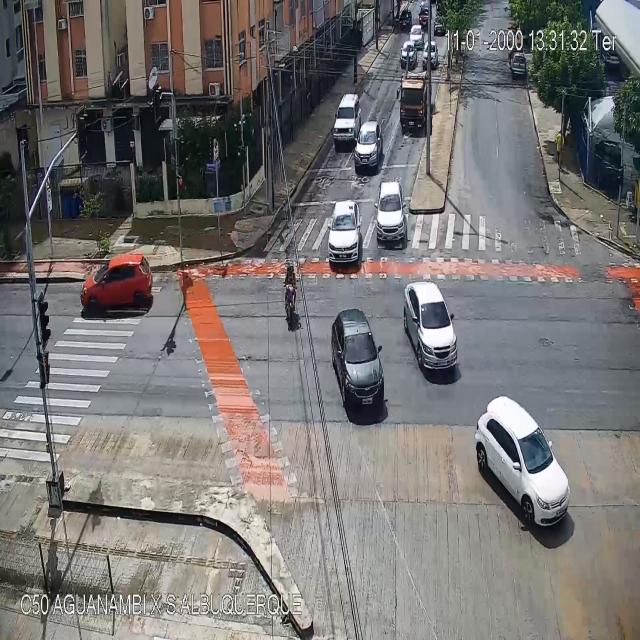Car: (477, 395, 571, 526), (332, 306, 384, 418), (403, 280, 459, 378), (80, 254, 152, 315), (374, 179, 407, 251), (328, 201, 362, 263), (354, 121, 382, 173), (335, 95, 361, 140), (422, 40, 438, 72), (400, 41, 416, 66), (512, 53, 526, 76), (409, 24, 422, 46), (420, 8, 430, 33), (434, 18, 446, 36), (399, 10, 409, 27)
Motorcycle: (283, 264, 298, 327)
Truck: (396, 72, 430, 136)
